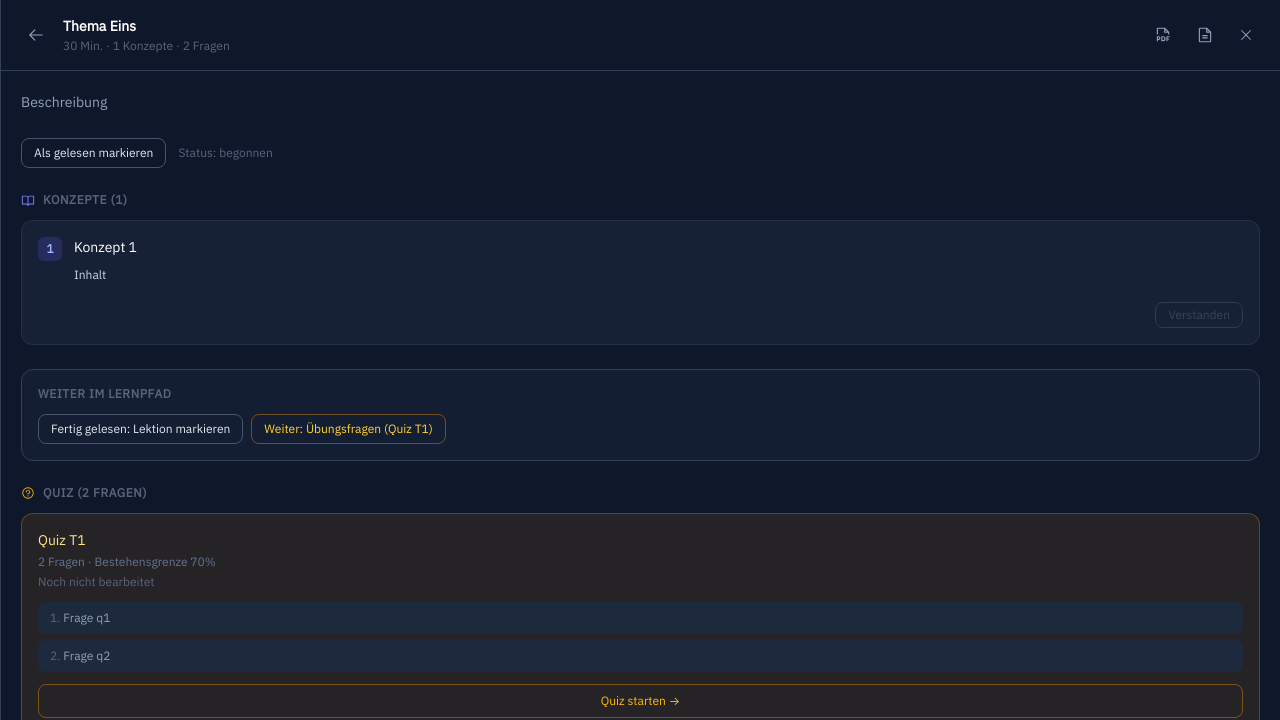
it: Lektion: gelesen markieren und Quiz-Ergebnis › Öffnen = begonnen; Button markiert als gelesen und nimmt es wieder zurück
The width and height of the screenshot is (1280, 720).
Expected: the text "Status: begonnen" is shown, [178,145,273,161]
Click the button "Als gelesen markieren" at (94, 153), box [21,138,166,168]
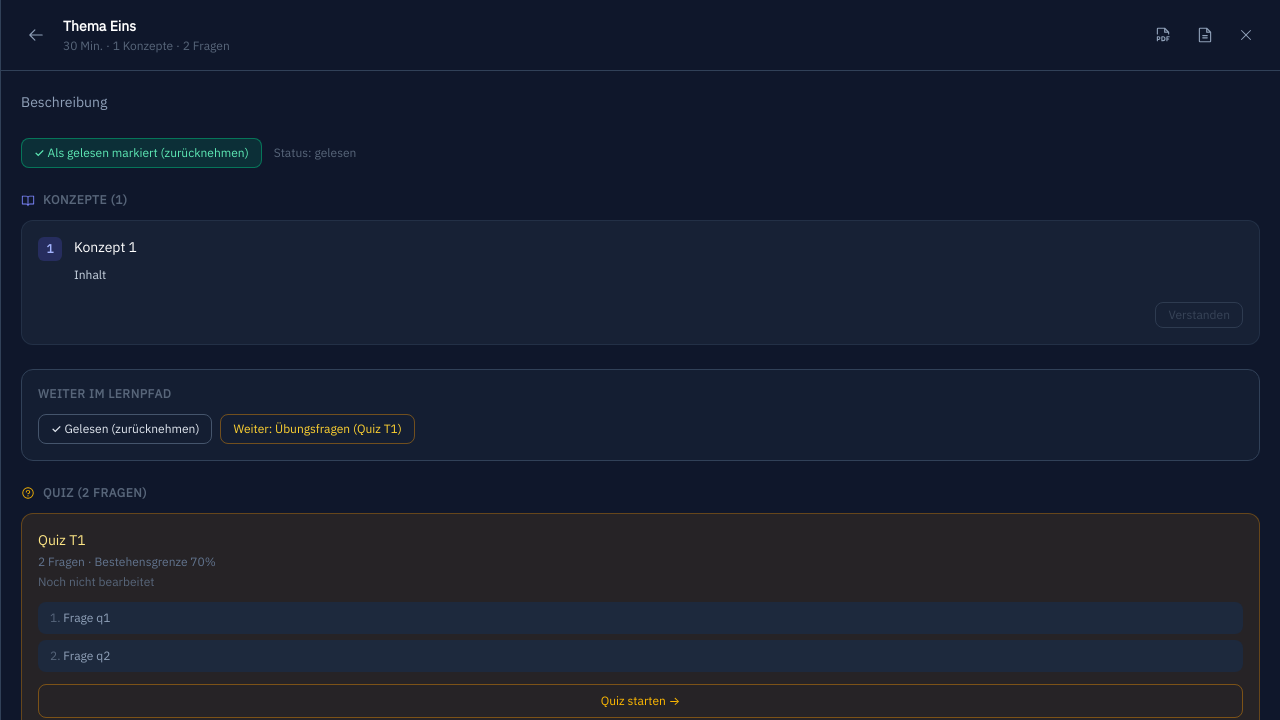
Expected: the text "Status: gelesen" is shown, [274,145,356,161]
Click the button "✓ Als gelesen markiert (zurücknehmen)" at (141, 153), box [21,138,262,168]
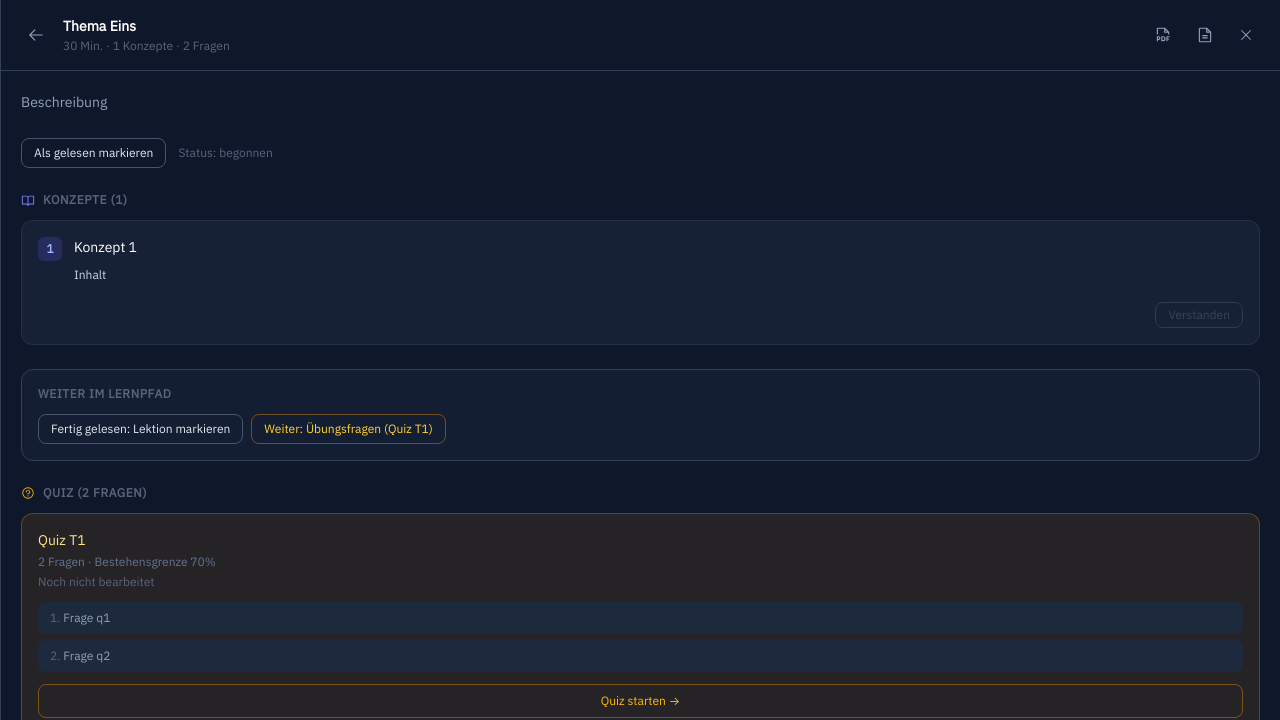
Expected: the text "Status: begonnen" is shown, [178,145,273,161]
